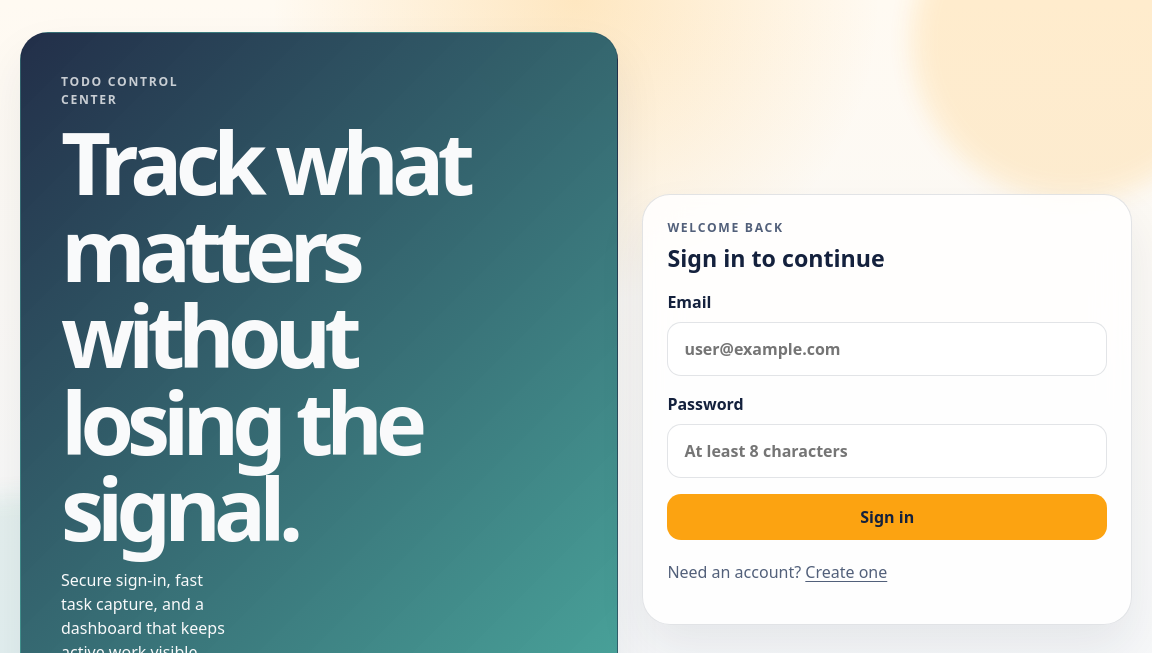
Scenario: App › registers a new user and signs out back to login
Expected: the heading "Sign in to continue" is shown, [667,247,885,270]
Click the link "Create one" at [846, 572], box [805,561,887,583]
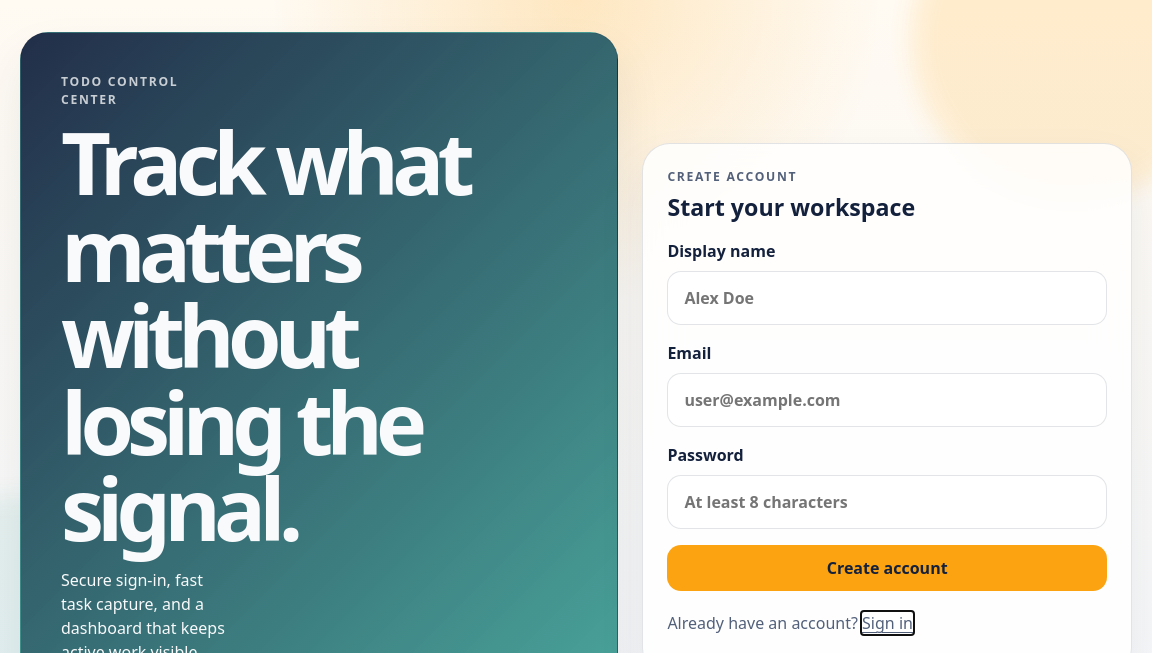
Expected: the heading "Start your workspace" is shown, [667,196,915,219]
Type "Taylor" into the field labelled "Display name" at [887, 298], box [667,271,1107,325]
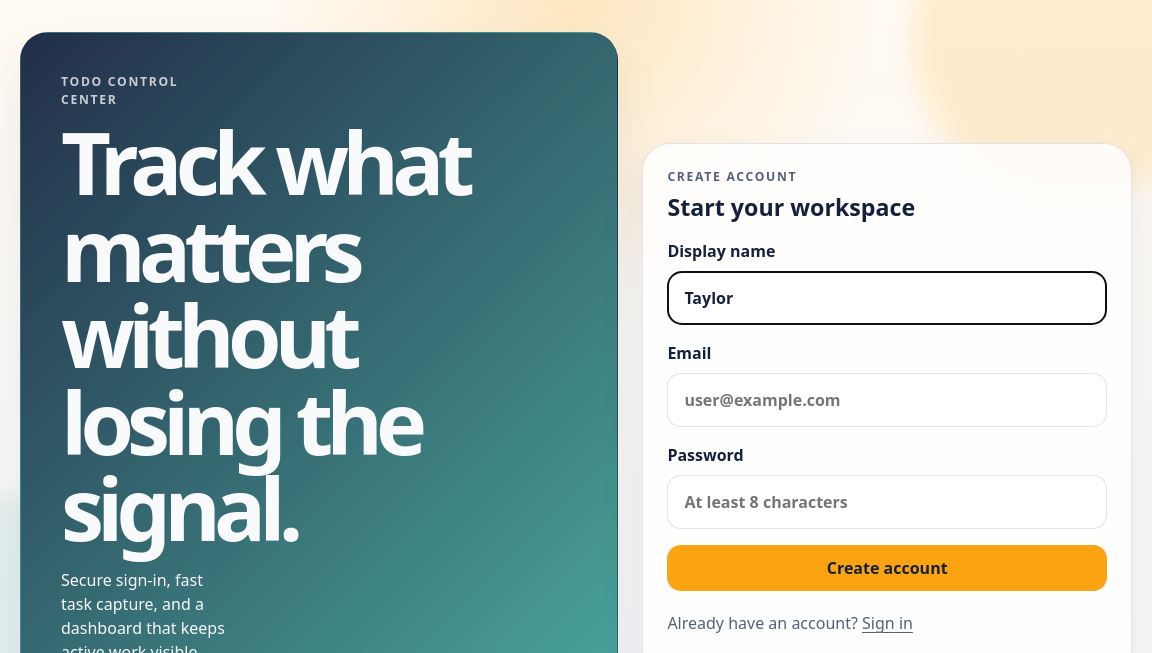
Type "taylor@example.com" into the field labelled "Email" at [887, 400], box [667,373,1107,427]
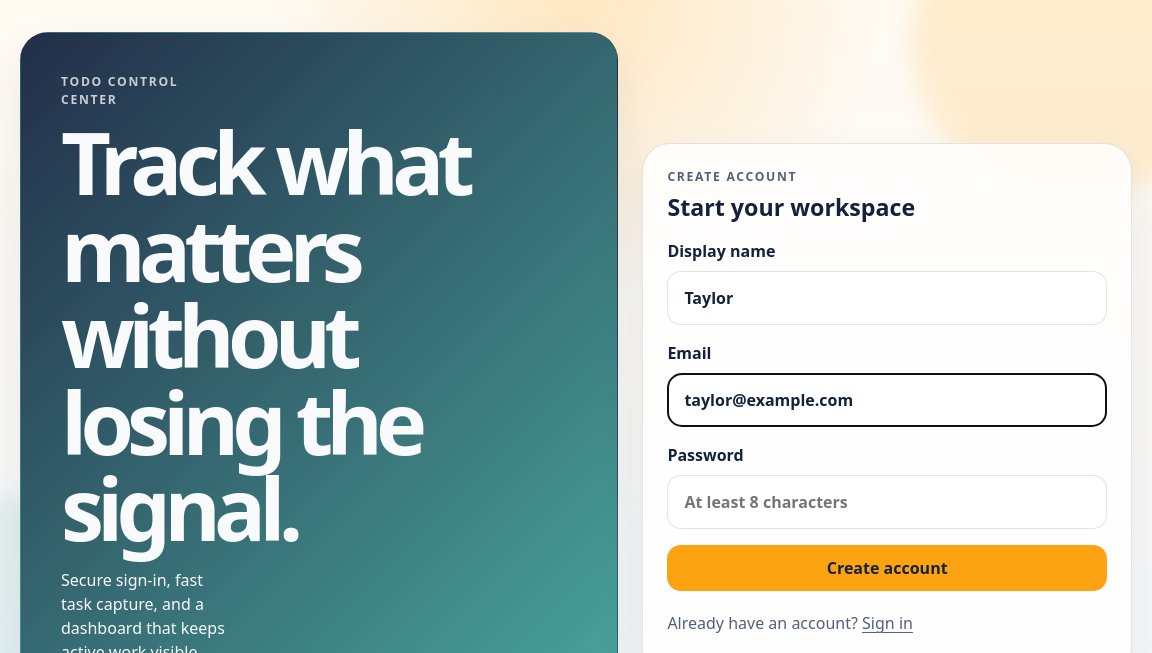
Type "StrongPass123" into the password field labelled "Password" at [887, 502], box [667,475,1107,529]
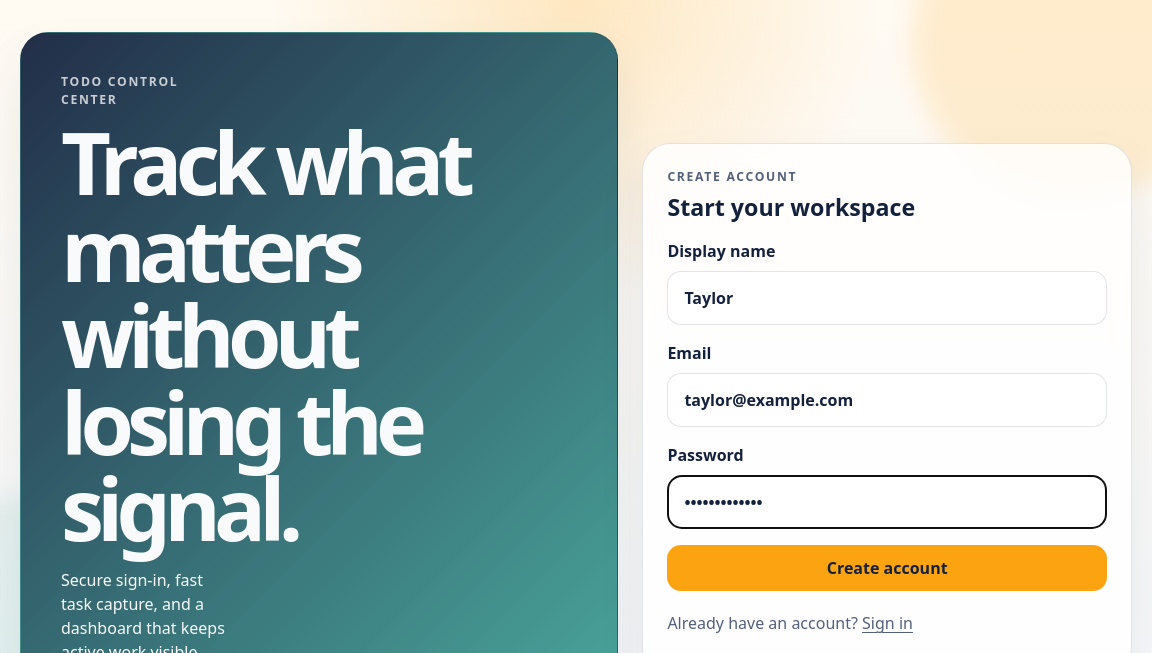
Click the button "Create account" at [887, 568], box [667,545,1107,591]
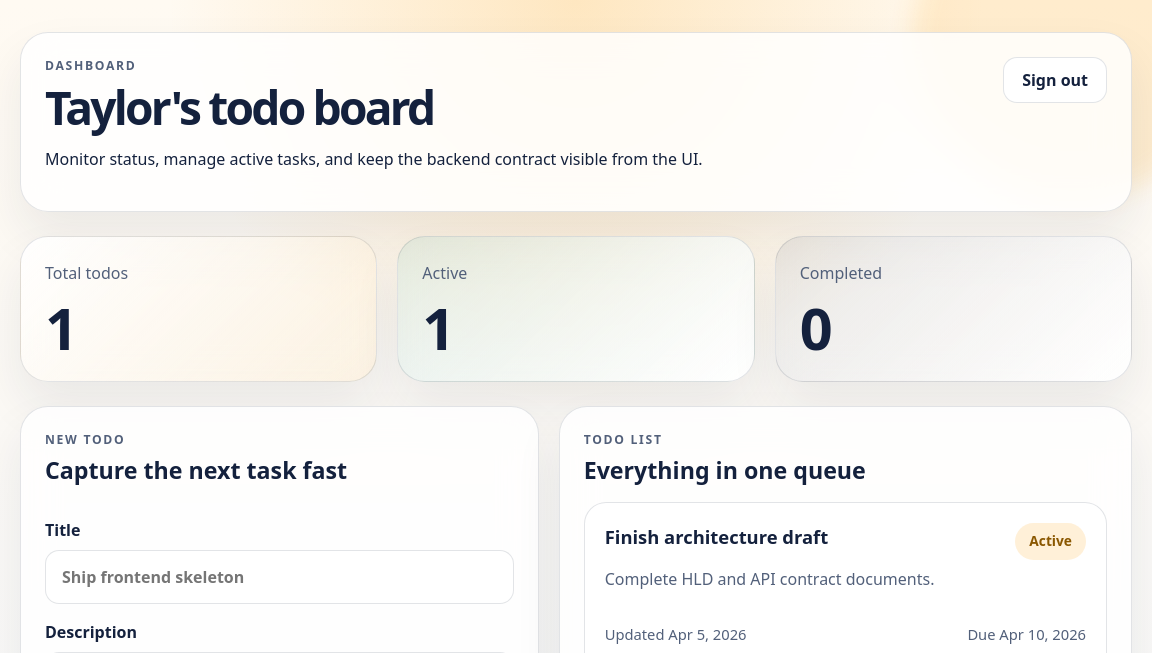
Expected: the heading "Taylor's todo board" is shown, [45,76,434,139]
Click the button "Sign out" at [1055, 80], box [1003,57,1107,103]
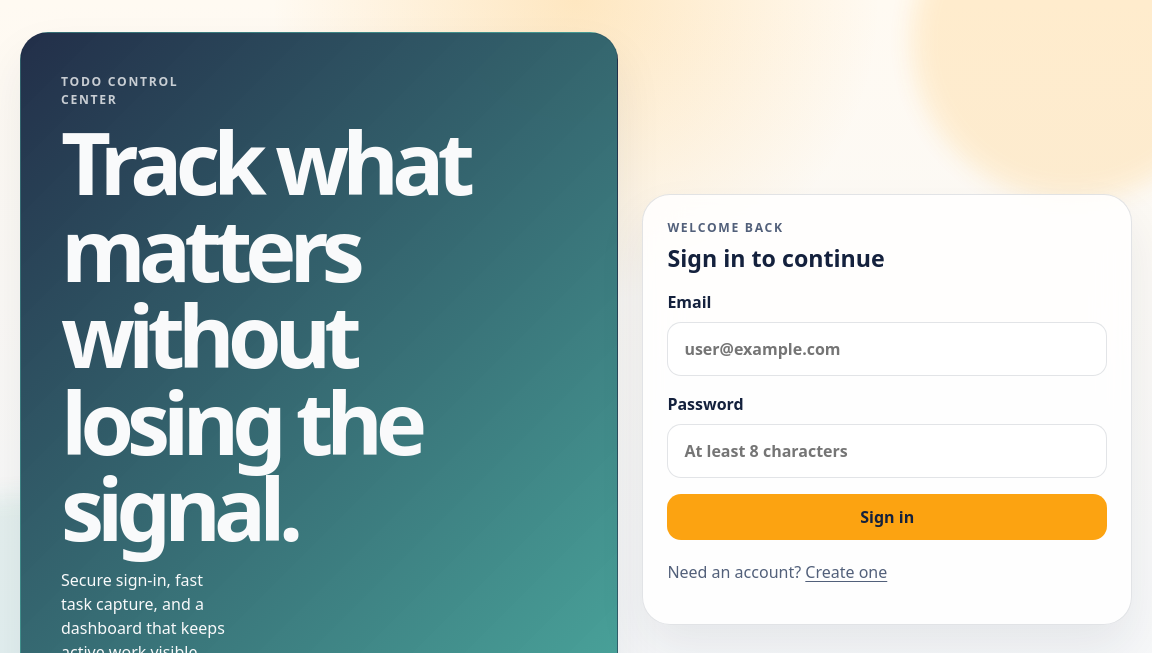
Expected: the heading "Sign in to continue" is shown, [667,247,885,270]
